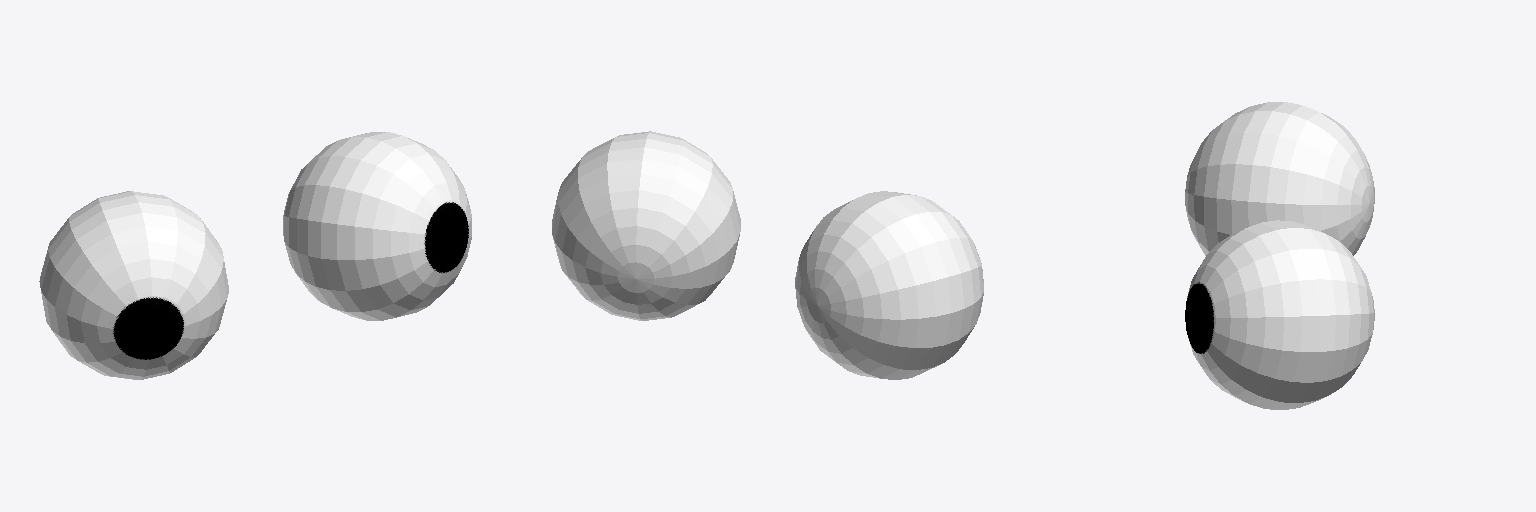
The picture shows the model from 3 angles: view 1: azimuth 30°, elevation 25°; view 2: azimuth 150°, elevation 25°; view 3: azimuth 270°, elevation 25°; orthographic projection.
Parts seen in each view (by area): view 1: Sphere.001_Sphere.006; view 2: Sphere.001_Sphere.006; view 3: Sphere.001_Sphere.006.
Boxes of the visible parts, x1=… form: Sphere.001_Sphere.006: x1=39, y1=132, x2=471, y2=379; Sphere.001_Sphere.006: x1=552, y1=131, x2=983, y2=379; Sphere.001_Sphere.006: x1=1185, y1=102, x2=1374, y2=409.
Size of the model in its own units: 0.2003 by 0.0808 by 0.0808.
1 materials, 1 textured.